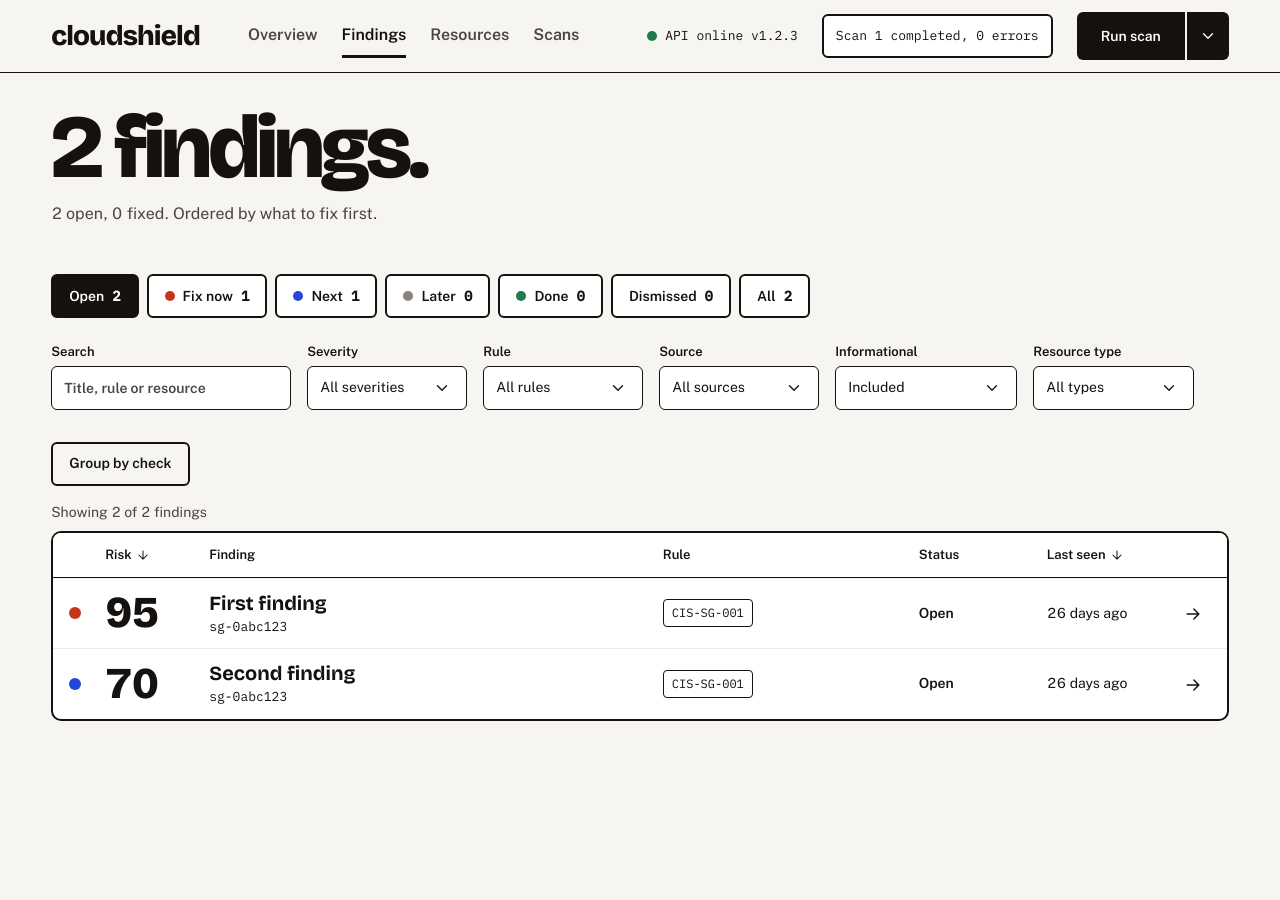
lists keep their elements when data is fetched again › keeps the rows of the findings table, and adds the new one
Click the button "Run scan".
click(1131, 36)  # box [1077,12,1185,60]
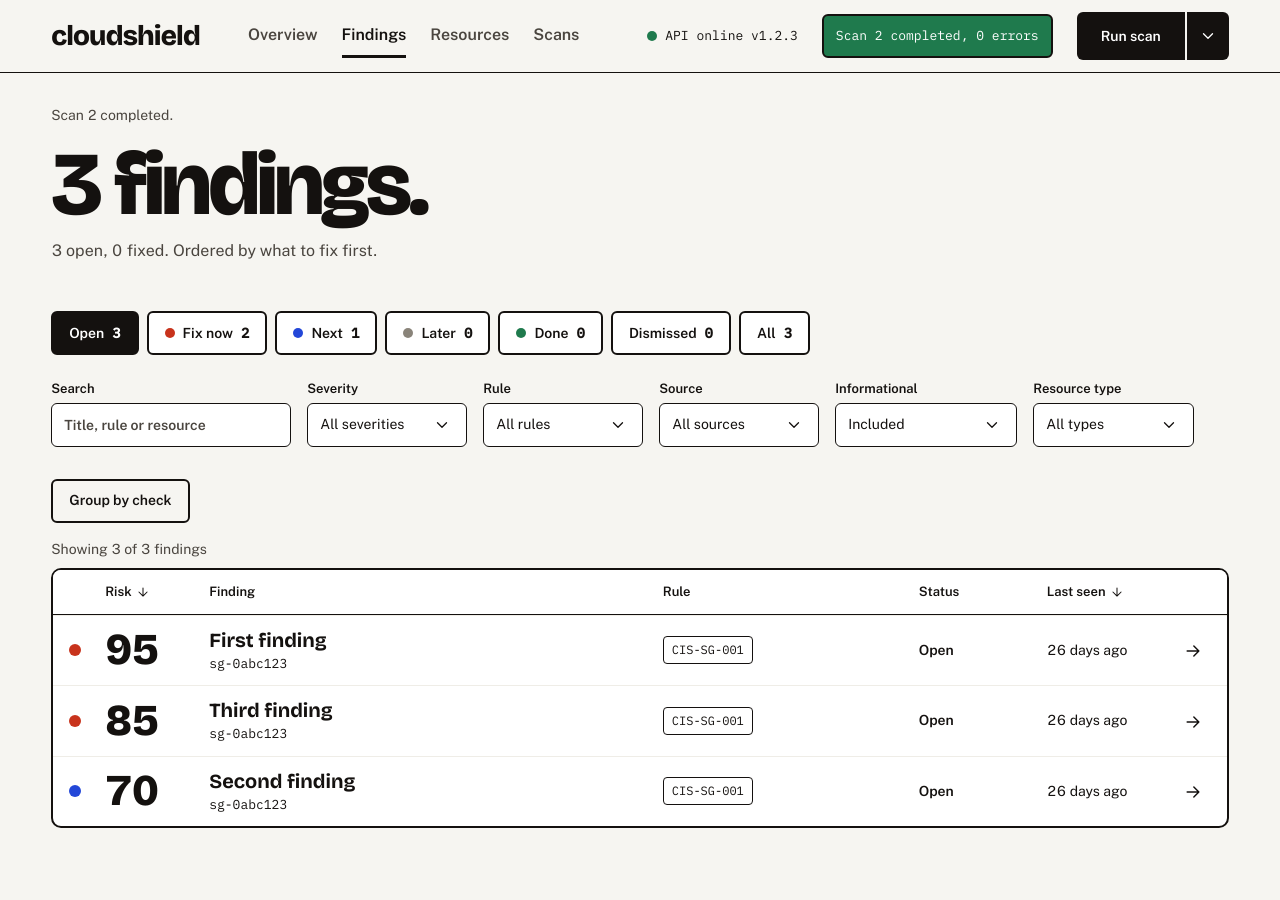
Expected: the link "Third finding" is shown, [209,698,333,722]
